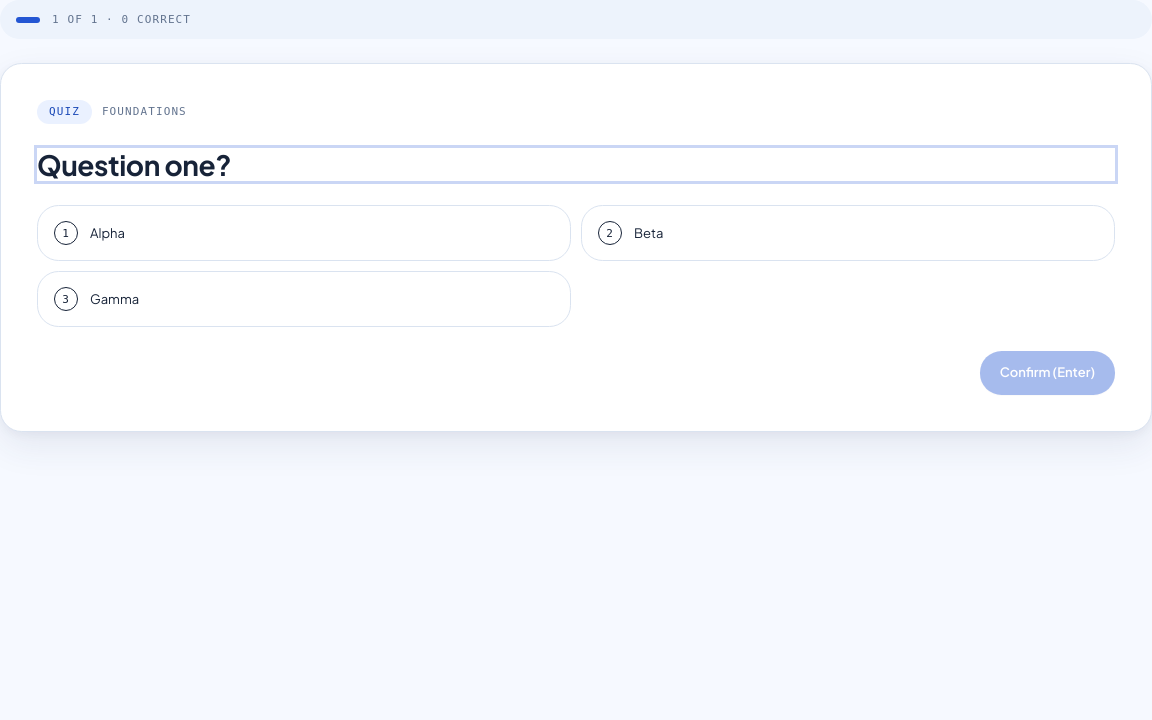
Test: ArenaSession › shows pinned open-source attribution in feedback when a challenge has it
Click the button "2 Beta".
click(610, 233)  # box [581,205,1115,261]
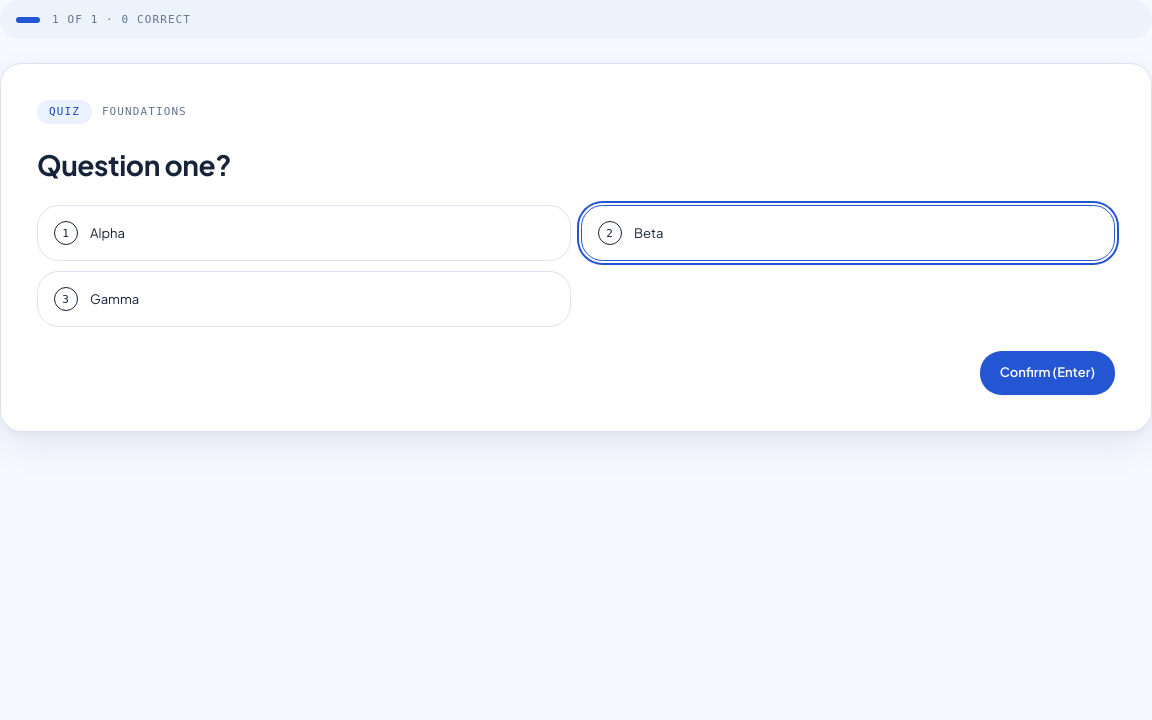
Press Enter
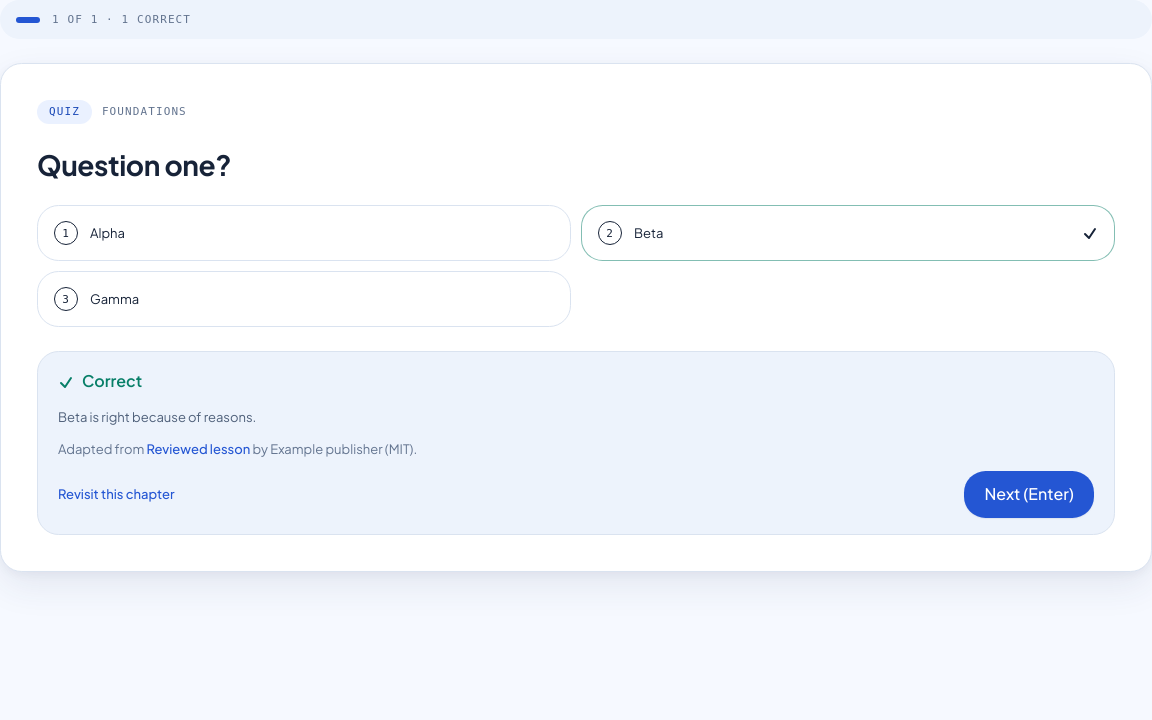
Check: the text "Adapted from Reviewed lesson by Example publisher (MIT)." is shown, box [58,441,417,457]
